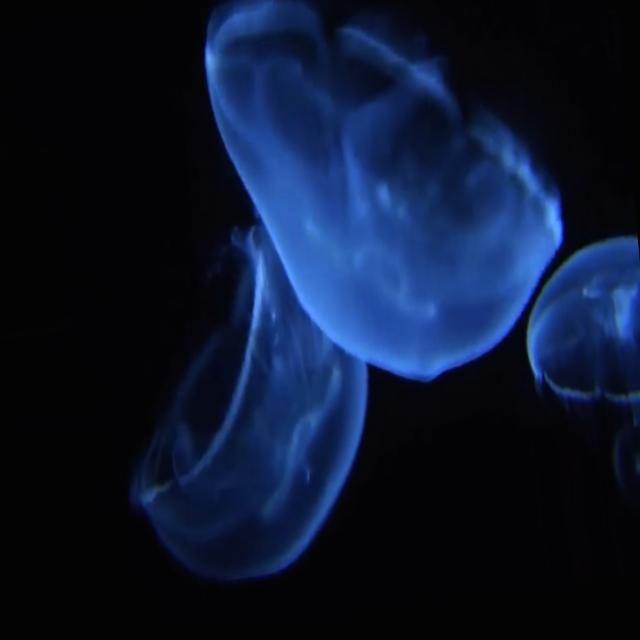Moon-jellyfish: (232, 33, 562, 339), (123, 229, 371, 585), (525, 244, 640, 454)
